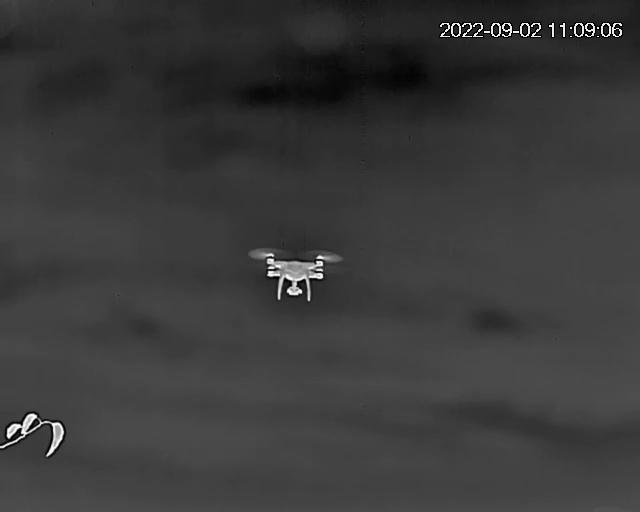DJI-Phantom: (249, 248, 341, 305)
